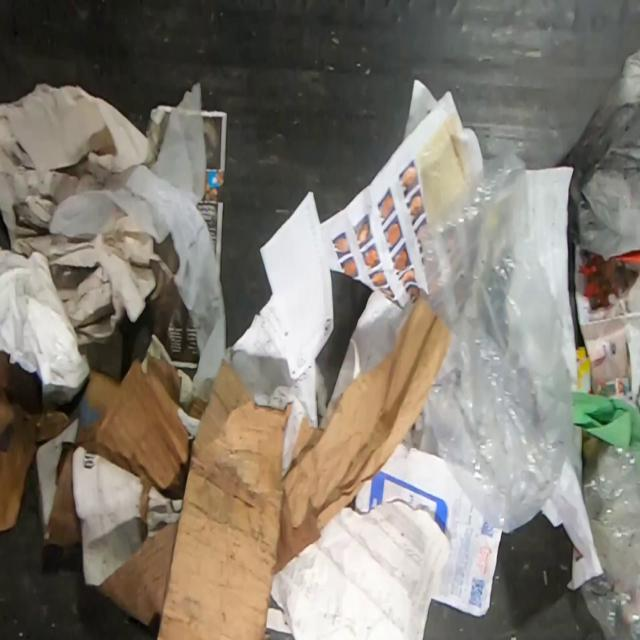cardboard: (0, 292, 453, 639)
soft_plastic: (421, 145, 572, 535), (583, 438, 640, 638)
